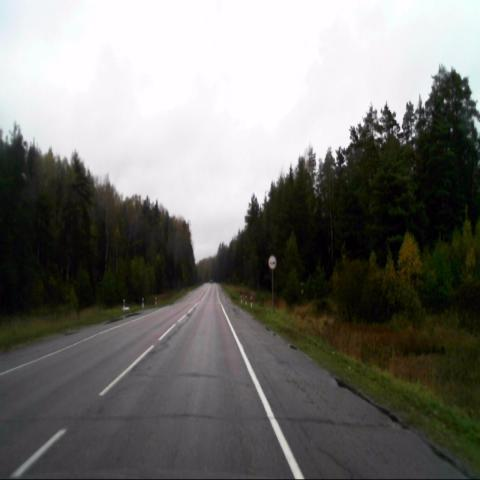3_20: (267, 254, 277, 271)
